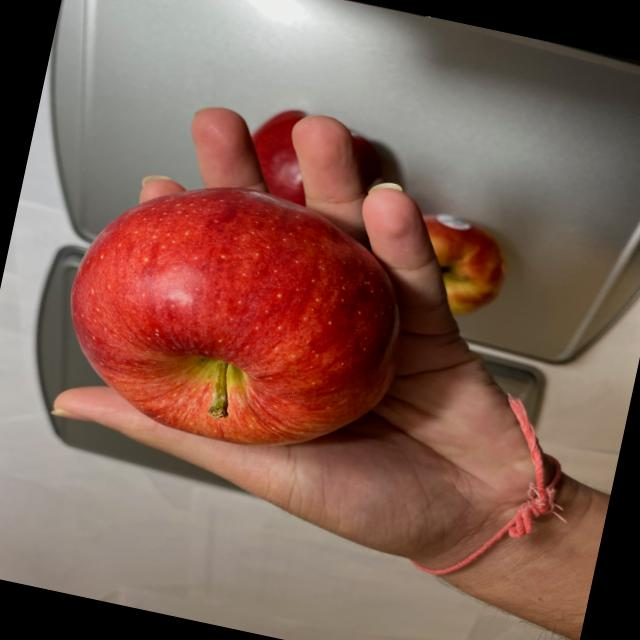apple: (44, 159, 428, 475)
